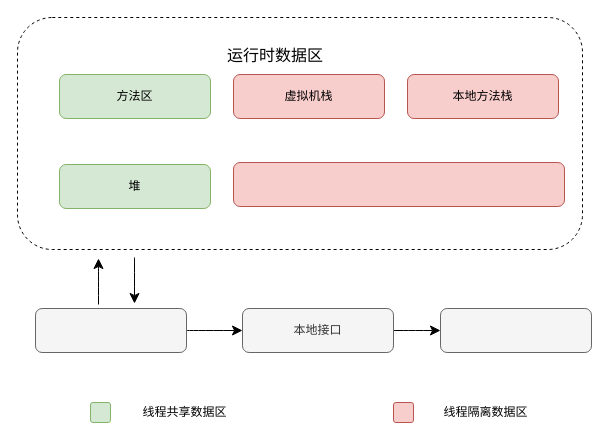
This 609x445 diagram has some shape labels left out. The centre of each missing label's shape, as x and y in pixels:
"执行引擎" belongs at pixel 110 330.
"本地方法库" belongs at pixel 516 330.
"程序计数器" belongs at pixel 398 184.
